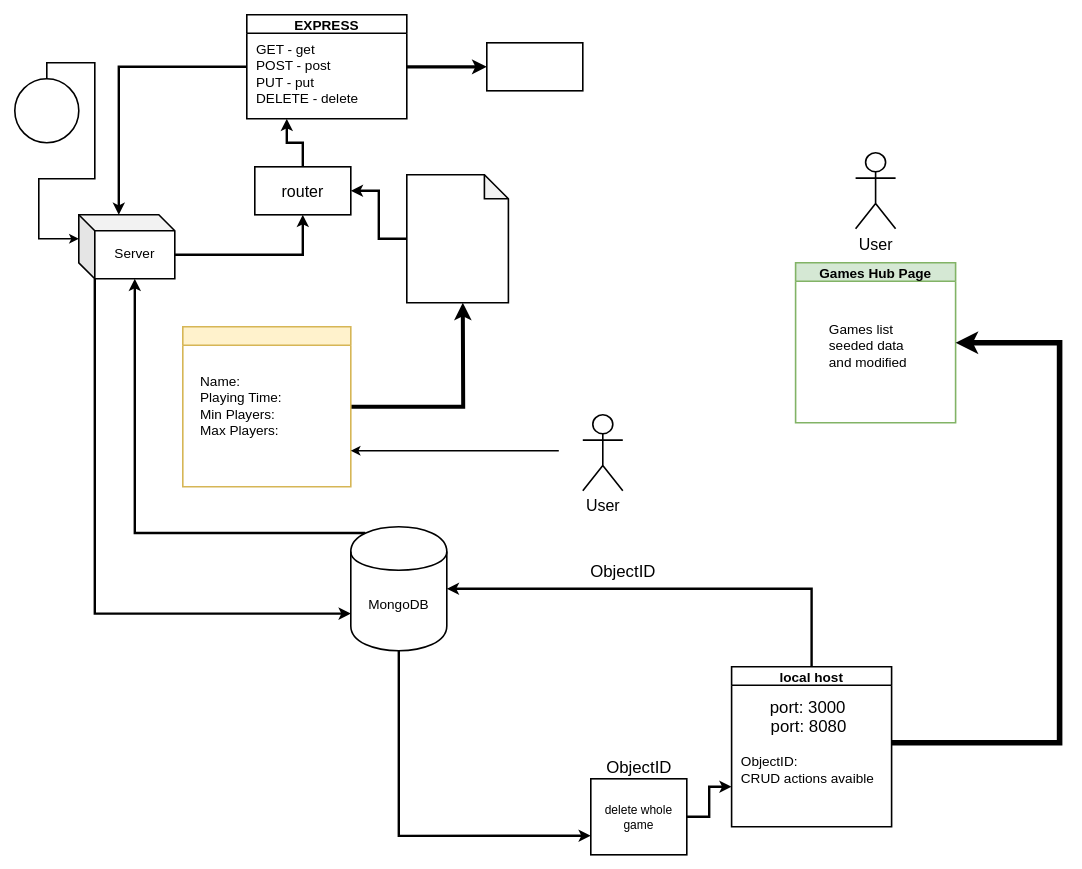
Image size: 1082x869. Some labels were removed from this diagram. The box of each missing label's shape, as (x1, y1, x2, y2) in pixels:
Client: (406, 174, 509, 303)
Form Submission: (182, 326, 351, 487)
Insomnia: (486, 42, 583, 91)
seed database: (14, 78, 79, 143)
